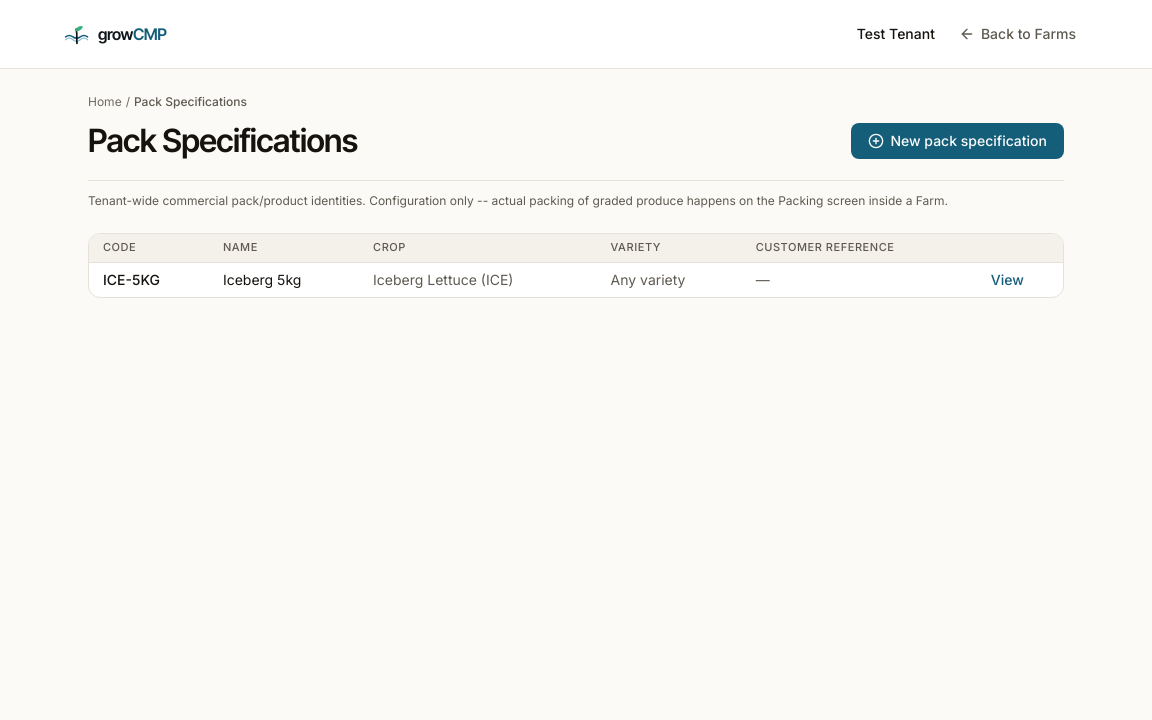
Test: PackSpecificationsPage › surfaces a duplicate-code conflict without losing the form
expect the text "ICE-5KG" is shown: met, box [89, 262, 209, 296]
Click the button "New pack specification". click: {"x": 958, "y": 141}
box: [852, 123, 1064, 159]
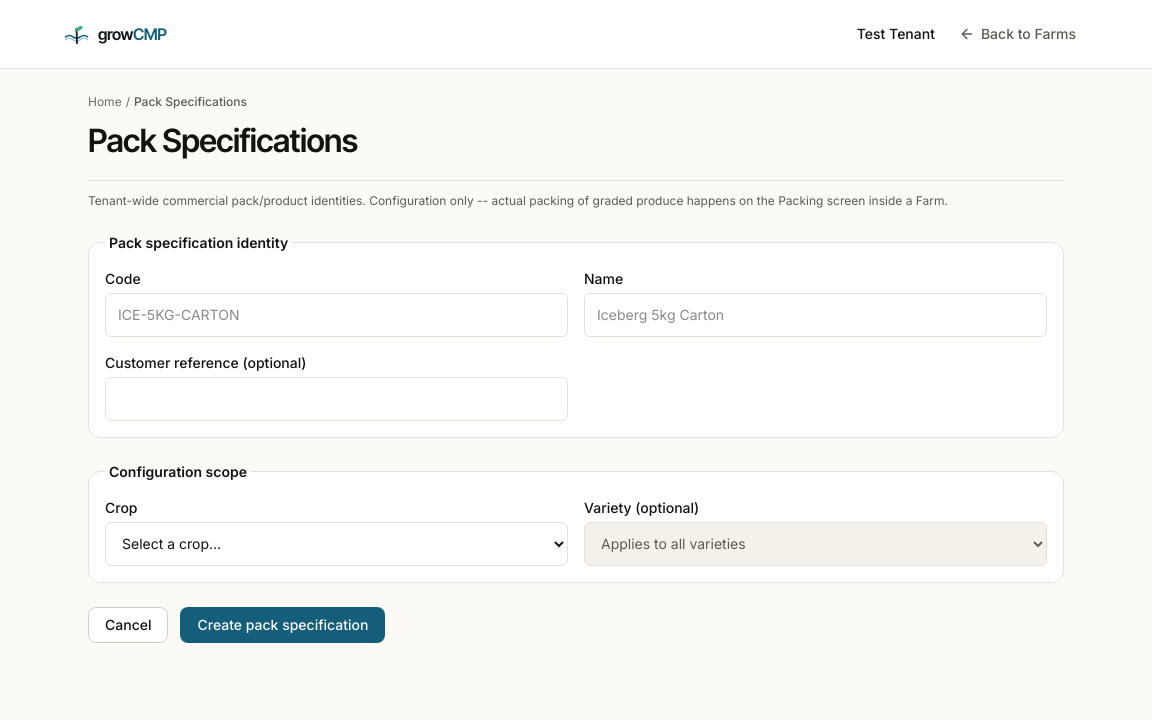
Type "ICE-5KG" into the field with placeholder "ICE-5KG-CARTON". click: {"x": 336, "y": 315}
box: [105, 293, 568, 337]
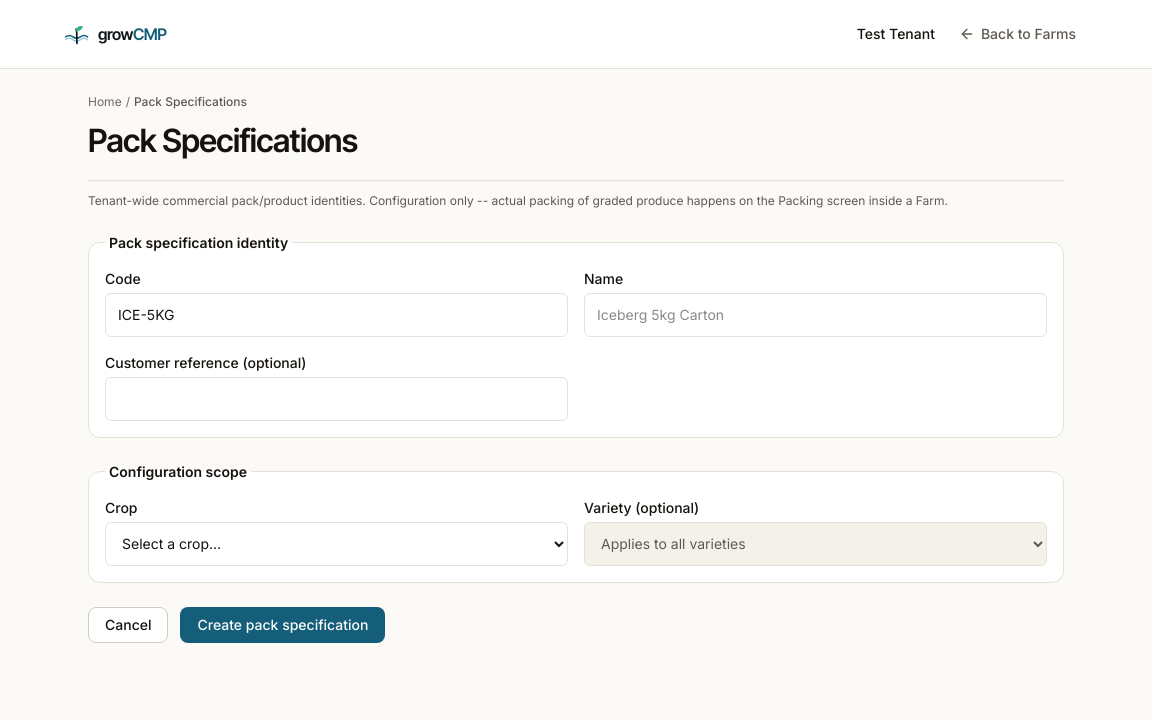
Type "Dup" into the field with placeholder "Iceberg 5kg Carton". click: {"x": 816, "y": 315}
box: [584, 293, 1047, 337]
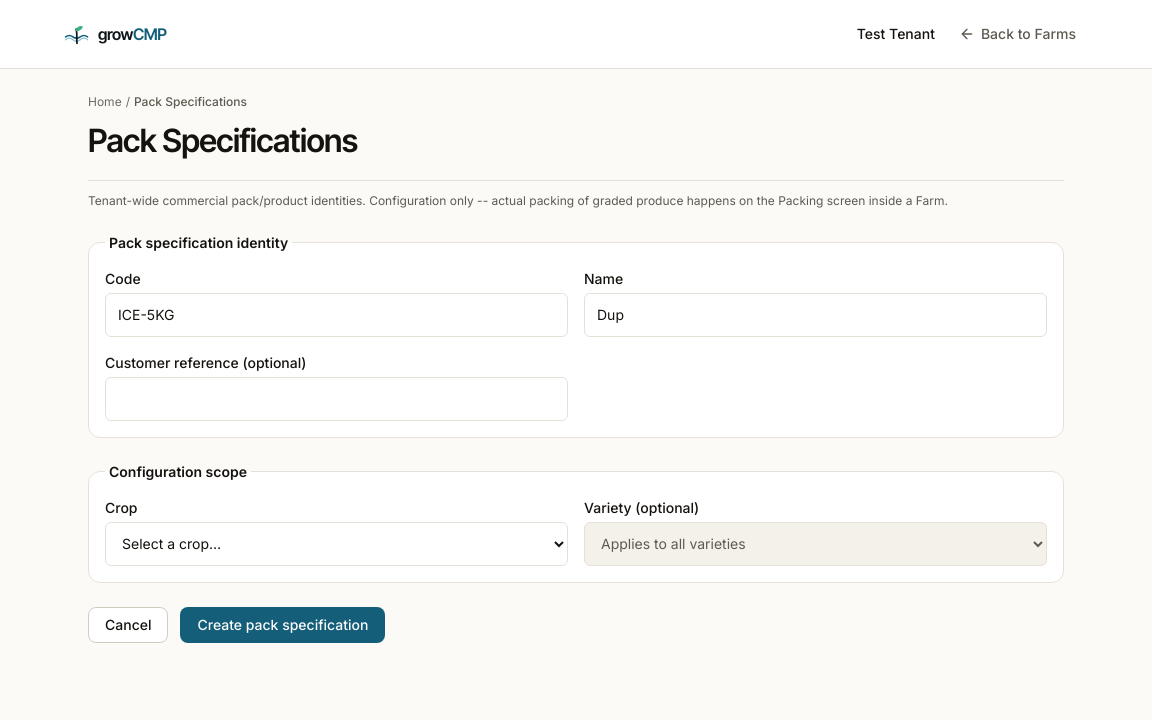
Select "Iceberg Lettuce (ICE)" in the dropdown labelled "Crop". click: {"x": 336, "y": 544}
box: [105, 522, 568, 566]
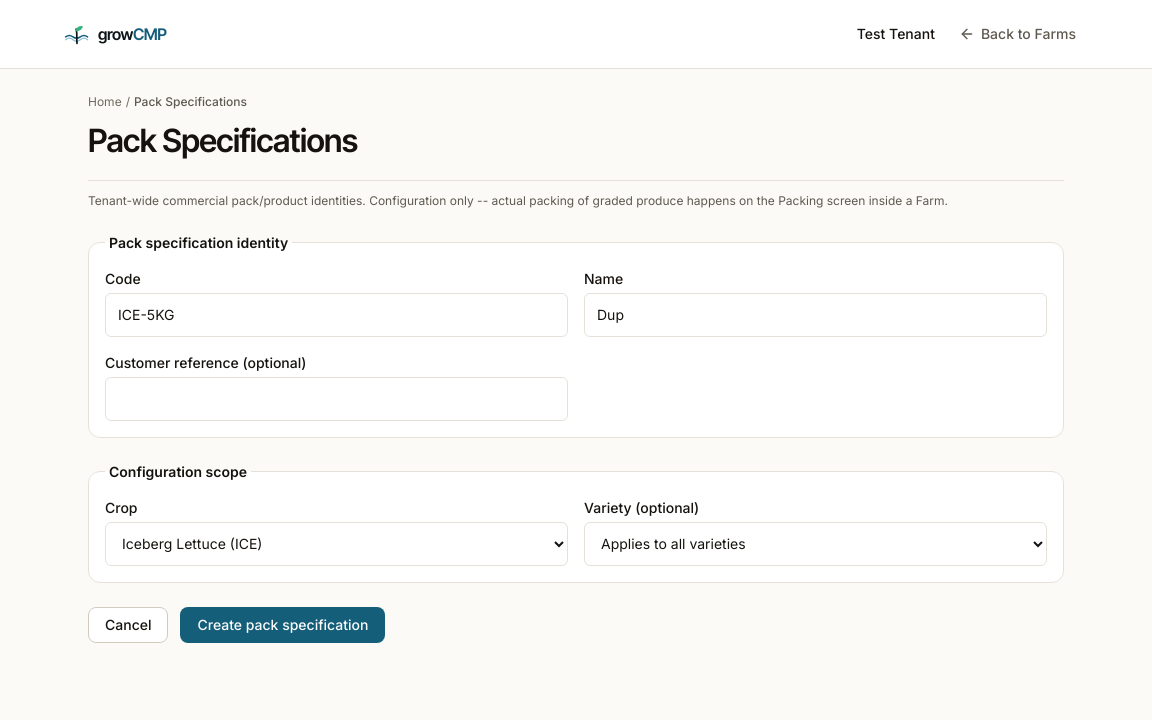
Click the button "Create pack specification". click: {"x": 283, "y": 625}
box: [180, 607, 385, 643]
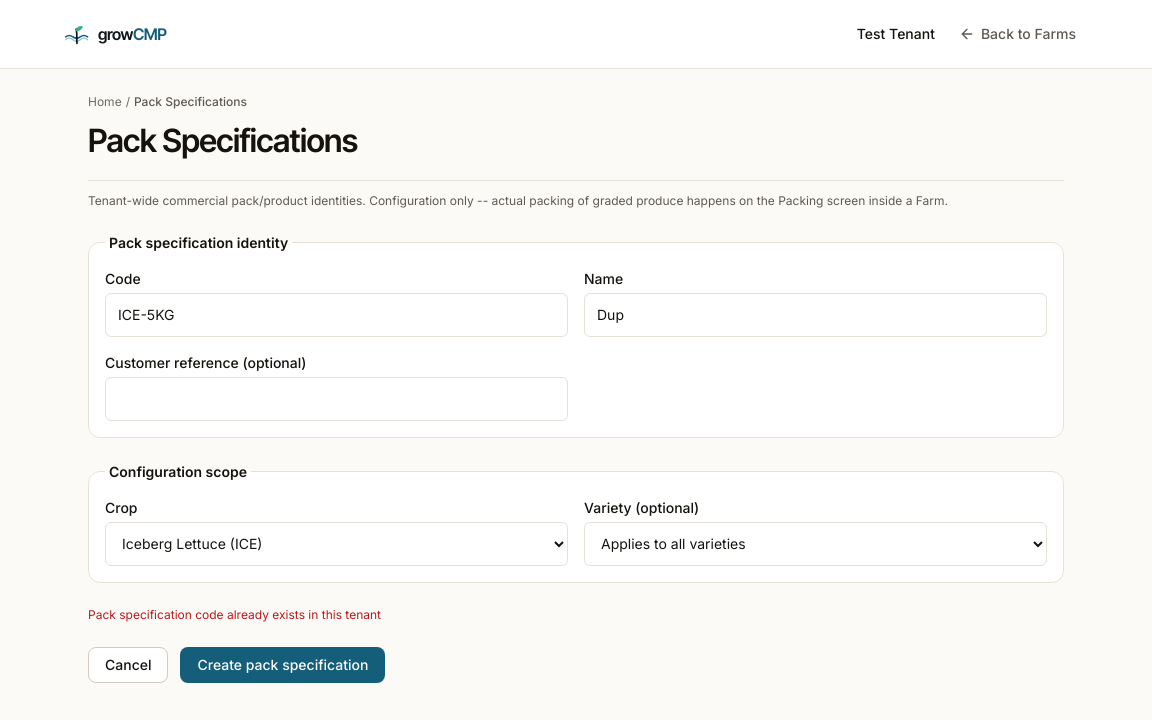
expect the text "Pack specification code already exists in this tenant" is shown: met, box [88, 607, 381, 622]
